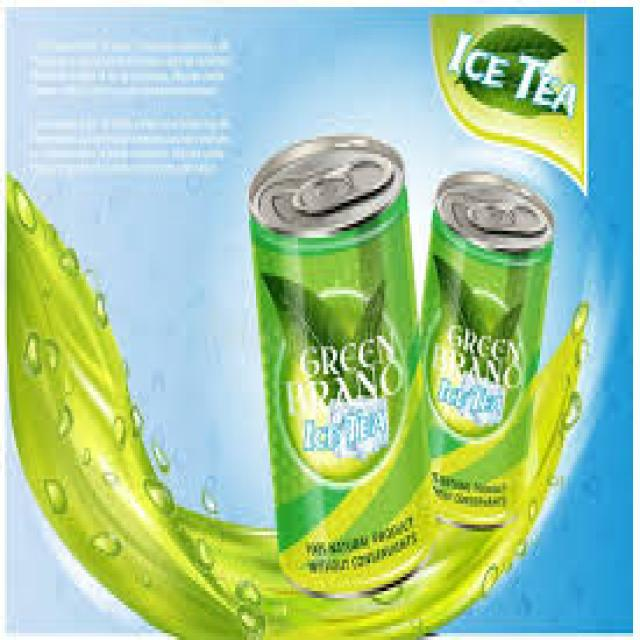Cans: (237, 122, 440, 605), (419, 168, 551, 535)
